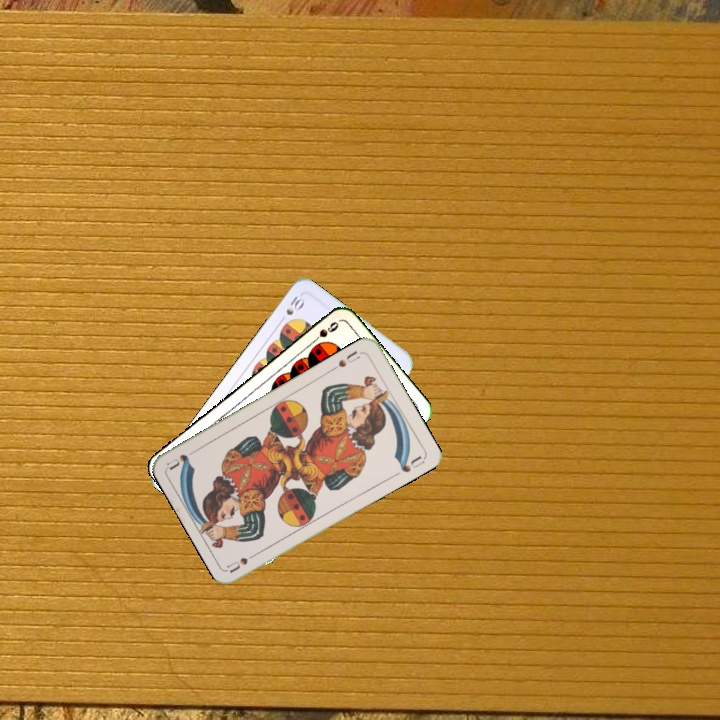S10: (275, 290, 307, 326)
S9: (306, 317, 341, 347)
SU: (224, 547, 263, 575), (328, 347, 363, 373)
